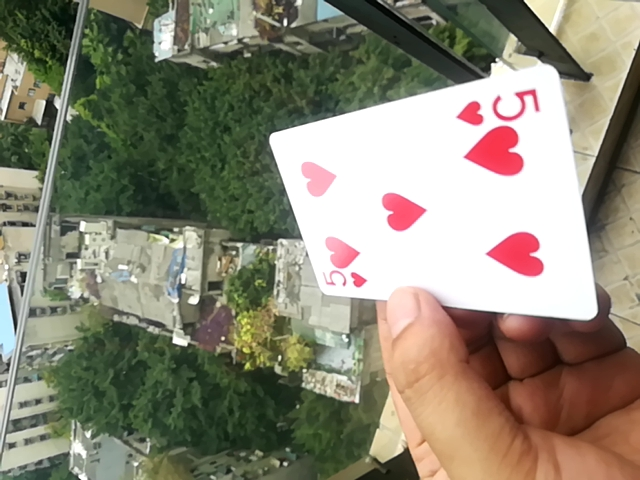hx 5: (266, 62, 605, 322)
